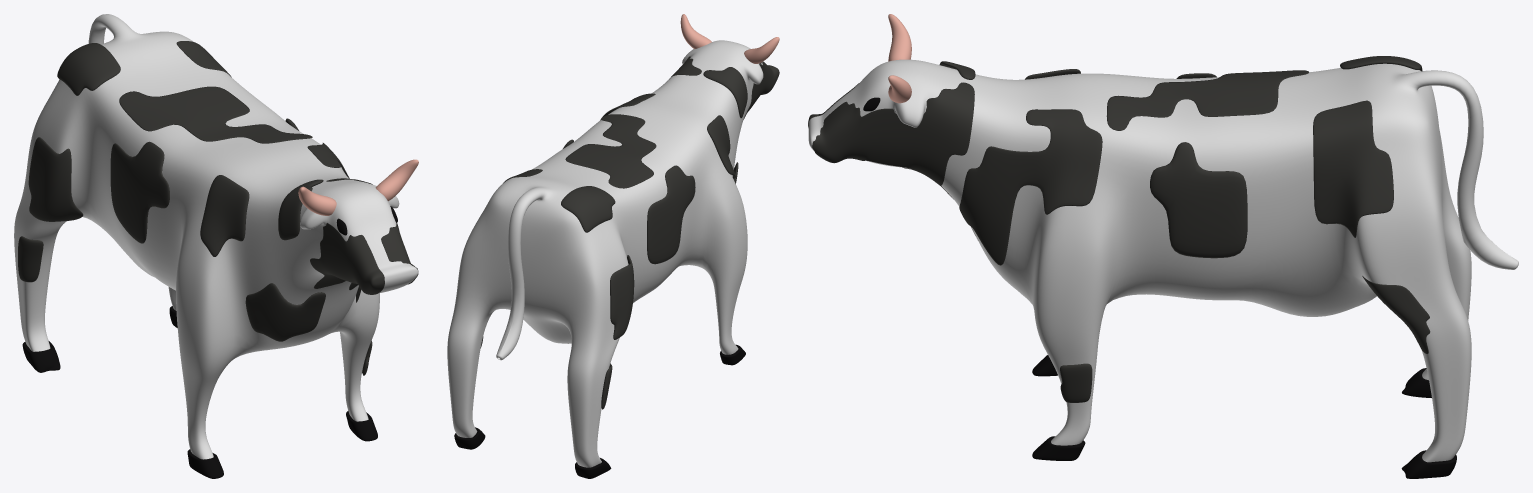
The model's file is cow-3d-icon-859442992483.glb.
3 views of the same model, side by side, from view 1: azimuth 30°, elevation 25°; view 2: azimuth 150°, elevation 25°; view 3: azimuth 270°, elevation 25° (orthographic). The views are drawn at different scales.
Parts seen in each view (by area): view 1: Body 1, Body 2, Feet, Horn; view 2: Body 1, Body 2, Feet, Horn; view 3: Body 1, Body 2, Feet, Horn.
Boxes of the visible parts, left/top/right/bottom form: Body 1: left=14, top=14, right=417, bottom=459; Body 2: left=18, top=41, right=418, bottom=375; Feet: left=22, top=306, right=377, bottom=478; Horn: left=298, top=159, right=418, bottom=215; Body 1: left=447, top=40, right=767, bottom=467; Body 2: left=480, top=56, right=779, bottom=409; Feet: left=454, top=344, right=745, bottom=478; Horn: left=680, top=14, right=779, bottom=63; Body 1: left=808, top=59, right=1518, bottom=462; Body 2: left=808, top=56, right=1430, bottom=402; Feet: left=1032, top=355, right=1456, bottom=478; Horn: left=888, top=14, right=911, bottom=103.
Size of the model in its own units: 1.13 by 1.97 by 3.27.
